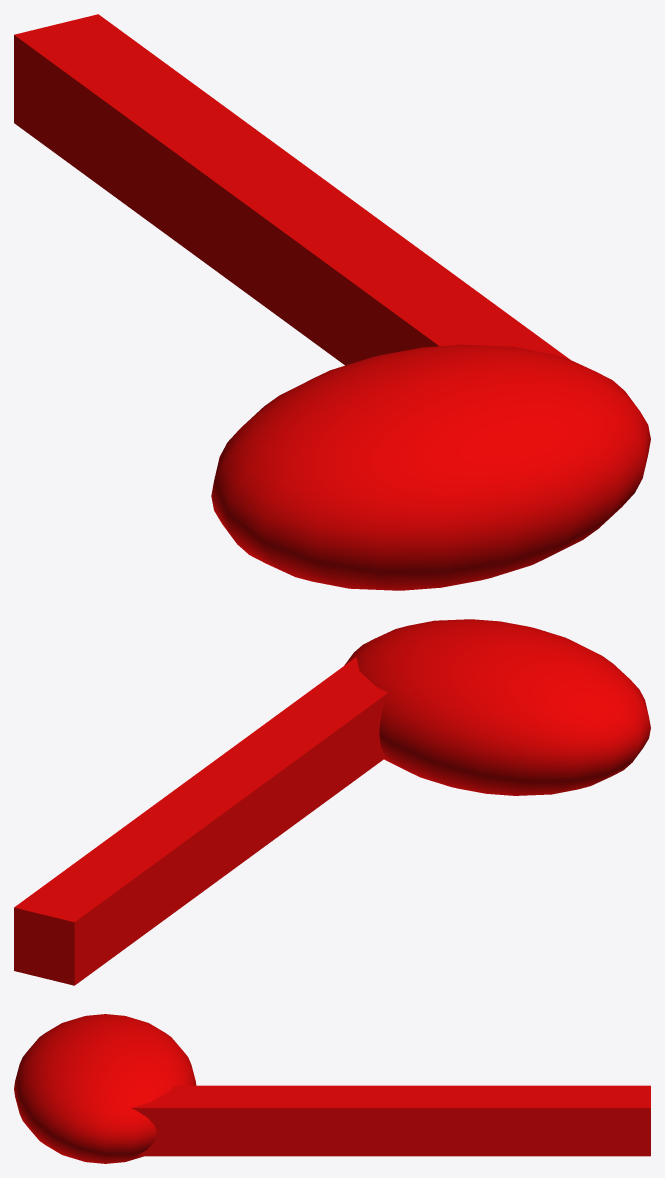
Rendered from omp.fbx.
The picture shows the model from 3 angles, top to bottom: view 1: azimuth 30°, elevation 25°; view 2: azimuth 150°, elevation 25°; view 3: azimuth 270°, elevation 25°; orthographic projection. The views are drawn at different scales.
Parts seen in each view (by area): view 1: pSphere1, pCube4; view 2: pCube4, pSphere1; view 3: pCube4, pSphere1.
Boxes of the visible parts, <box> form: pSphere1: <box>211,344,650,590</box>; pCube4: <box>14,14,570,365</box>; pCube4: <box>14,657,387,985</box>; pSphere1: <box>344,619,650,795</box>; pCube4: <box>131,1085,650,1156</box>; pSphere1: <box>14,1014,196,1163</box>.
Bounding box in the file's own units: 0.0316 × 0.014 × 0.0782.
